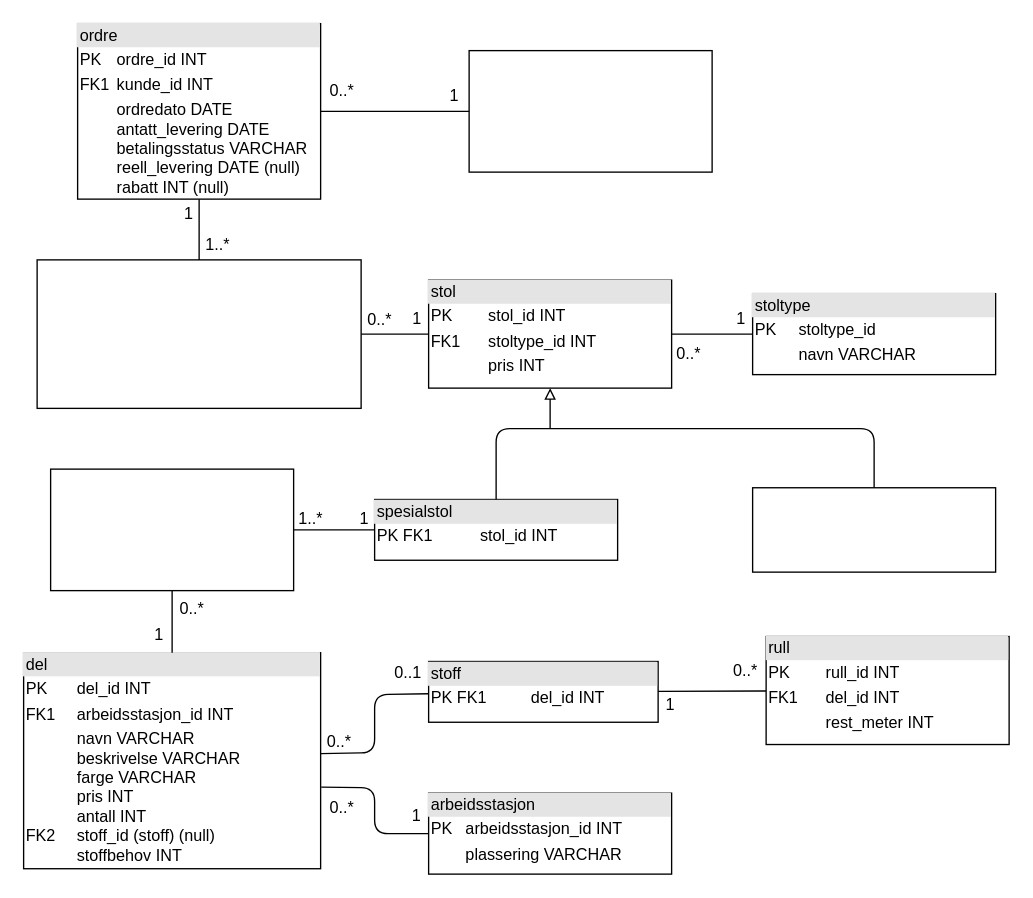
Some shapes in this 1033 by 898 pixel diagram are drawn without their labels. The centre of each missing label's shape, as x and y in pixels:
"bestilling PK bestilling_id INT FK1 ordre_id INT FK2 stol_id INT antall INT" goes at point (198, 333).
"kunde PK kunde_id INT navn VARCHAR adresse VARCHAR" goes at point (590, 110).
"spesialstol_del PK FK1 stol_id INT PK FK2 del_id INT antall INT" goes at point (171, 529).
"standardstol PK FK1 stol_id INT beholdning INT" goes at point (873, 529).
